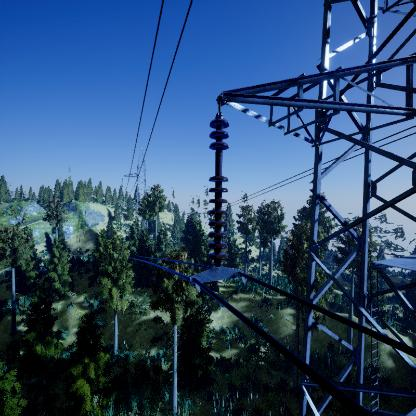insulator: (205, 117, 232, 265)
